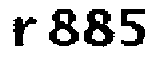5: (119, 7, 147, 49)
8: (48, 5, 79, 54), (85, 8, 114, 52)
r: (10, 12, 38, 51)
